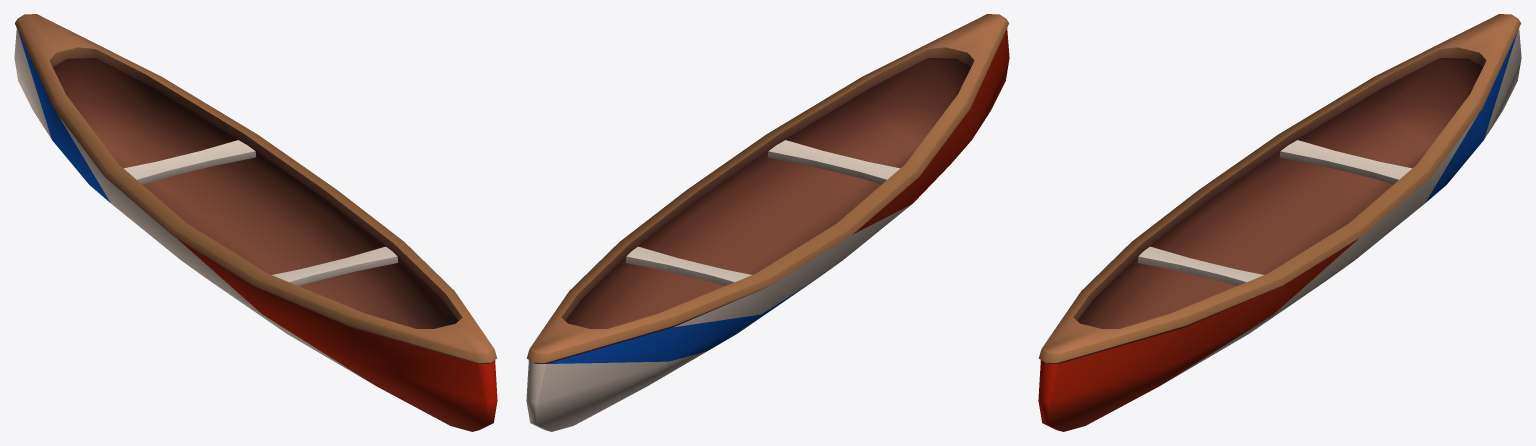
Rendered from Canoe_1B.fbx.
The picture shows the model from 3 angles, left to right: view 1: azimuth 30°, elevation 25°; view 2: azimuth 150°, elevation 25°; view 3: azimuth 330°, elevation 25°; orthographic projection.
Parts seen in each view (by area): view 1: Canoe_1B; view 2: Canoe_1B; view 3: Canoe_1B.
Part boxes in pixels (box(x1,y1,x2,y2)): Canoe_1B: box(14, 14, 497, 431); Canoe_1B: box(526, 14, 1009, 431); Canoe_1B: box(1038, 14, 1521, 431).
Bounding box in the file's own units: 85.06 × 47.97 × 416.
